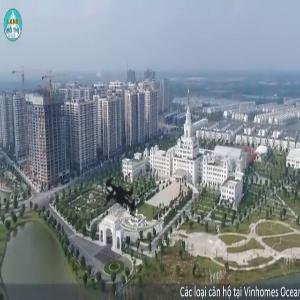drone: (51, 128, 183, 260)
